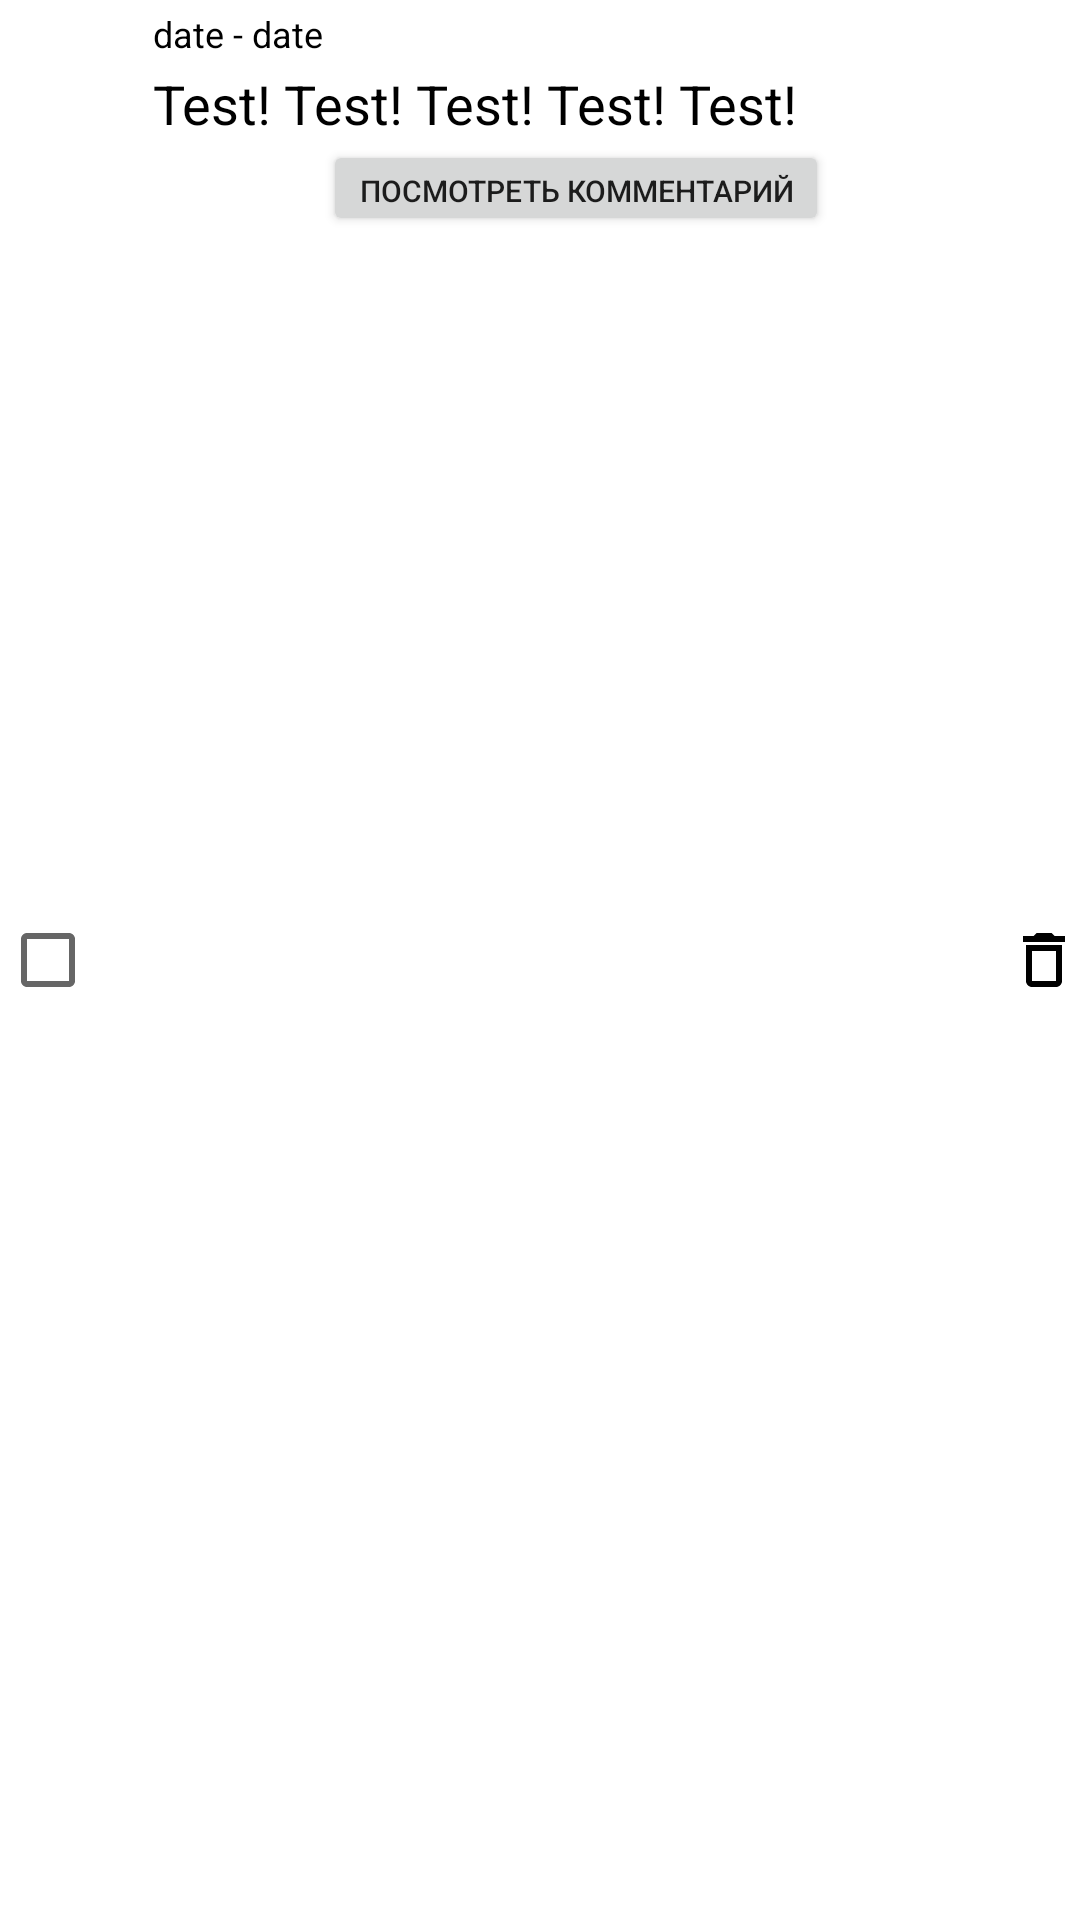

Locate icon controls on the screen. Image size 1080×1920, boxes as (x1, y1, x2, y2).
delete: (1023, 933, 1065, 987)
